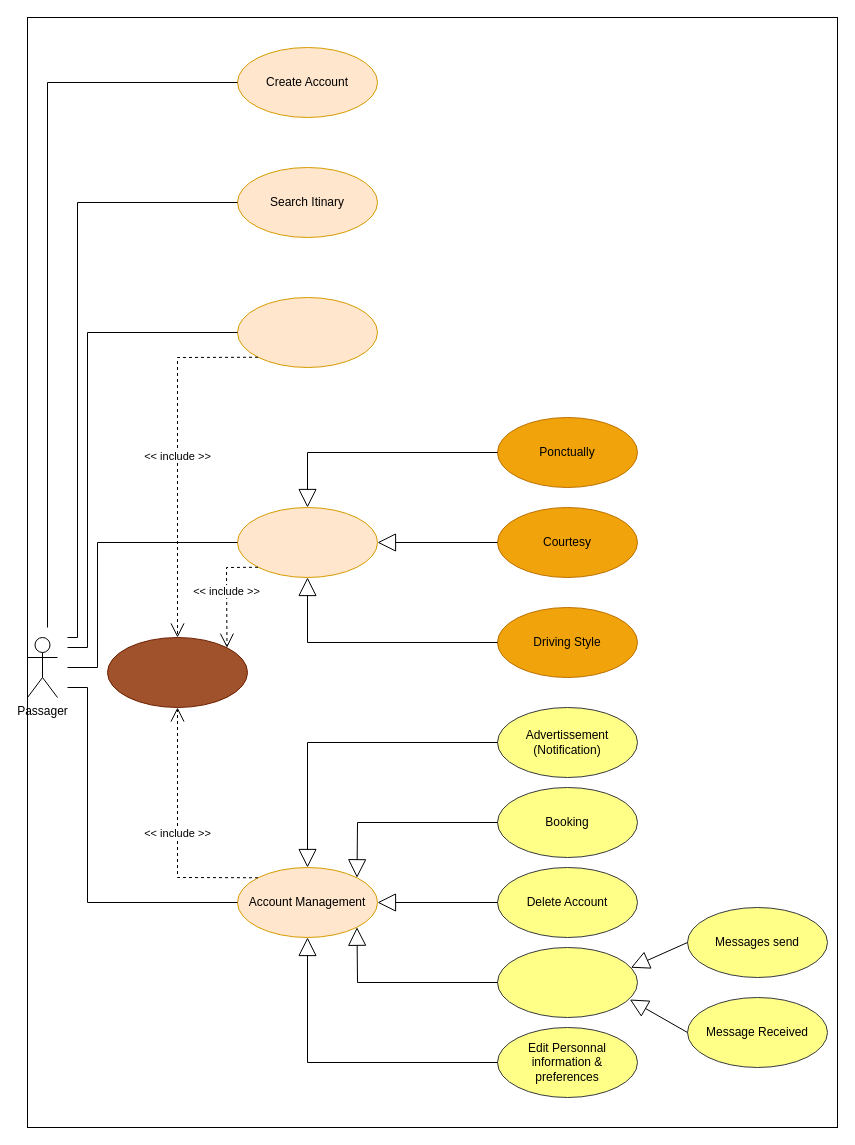
This 855x1145 diagram has some shape labels left out. The shapes that lost their labels are listed below. From the top down, each one's box as (x1, y1, x2, y2) in pixels, then its label:
(236, 296, 378, 368): Reserve a seat on the route
(236, 506, 378, 578): Note Driver
(106, 636, 248, 708): Sign in
(496, 946, 638, 1018): Messages
